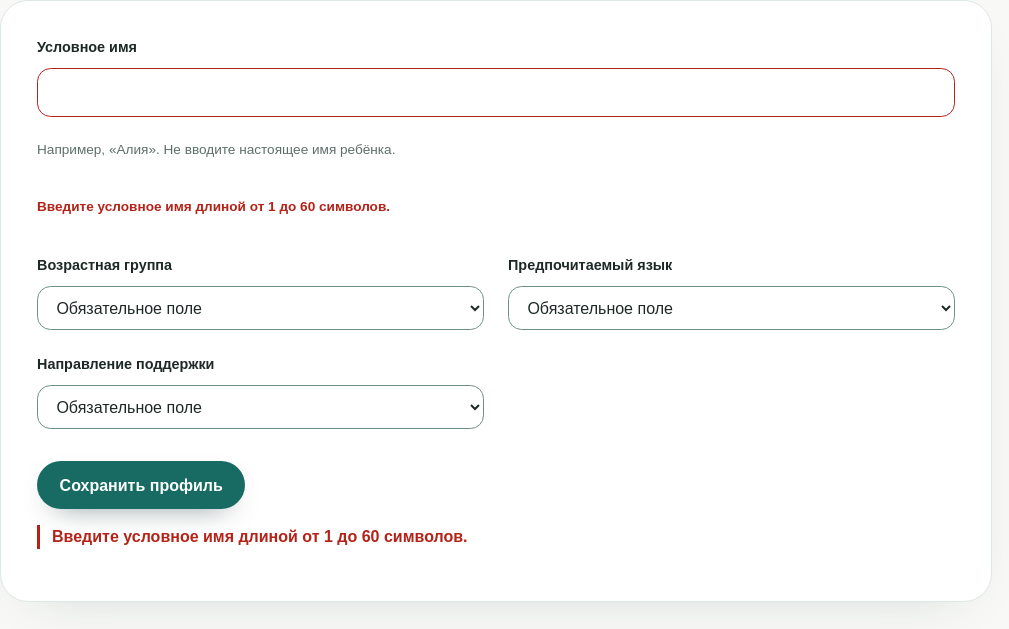
Test: clearing a field error removes the empty error status
The width and height of the screenshot is (1009, 629).
Type "Amina" into the field labelled "Условное имя" at x=496, y=92, box top-left (37, 68), bottom-right (955, 117)
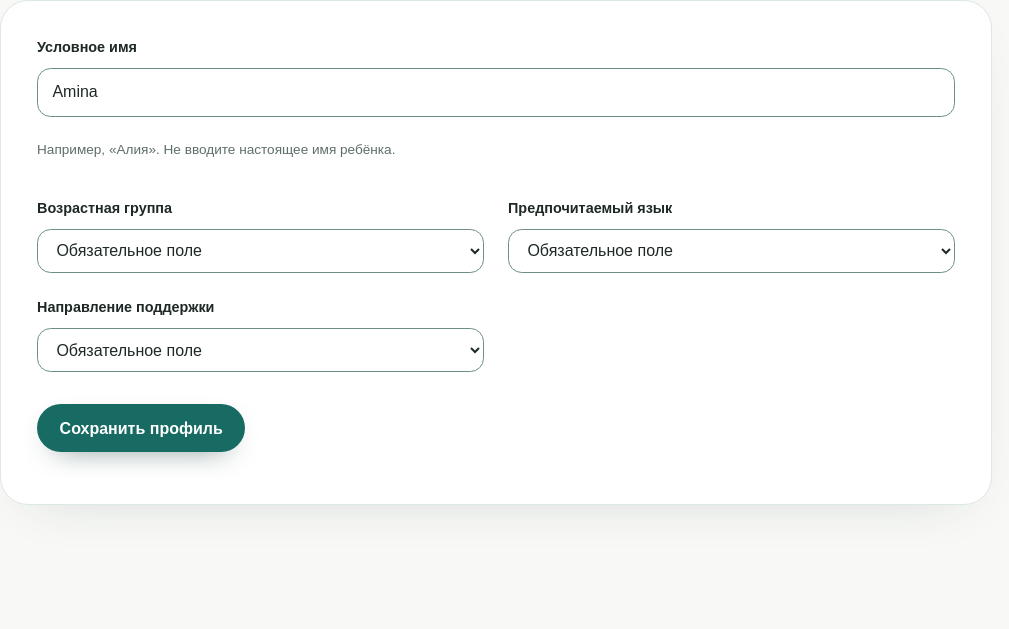
Now the message "Введите условное имя длиной от 1 до 60 символов." is gone
